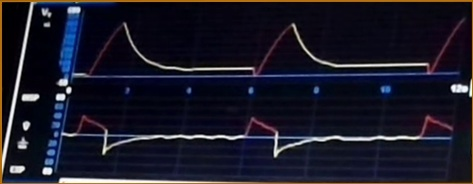Flow: (69, 108, 452, 169)
Leakage Volume: (80, 14, 465, 83)
